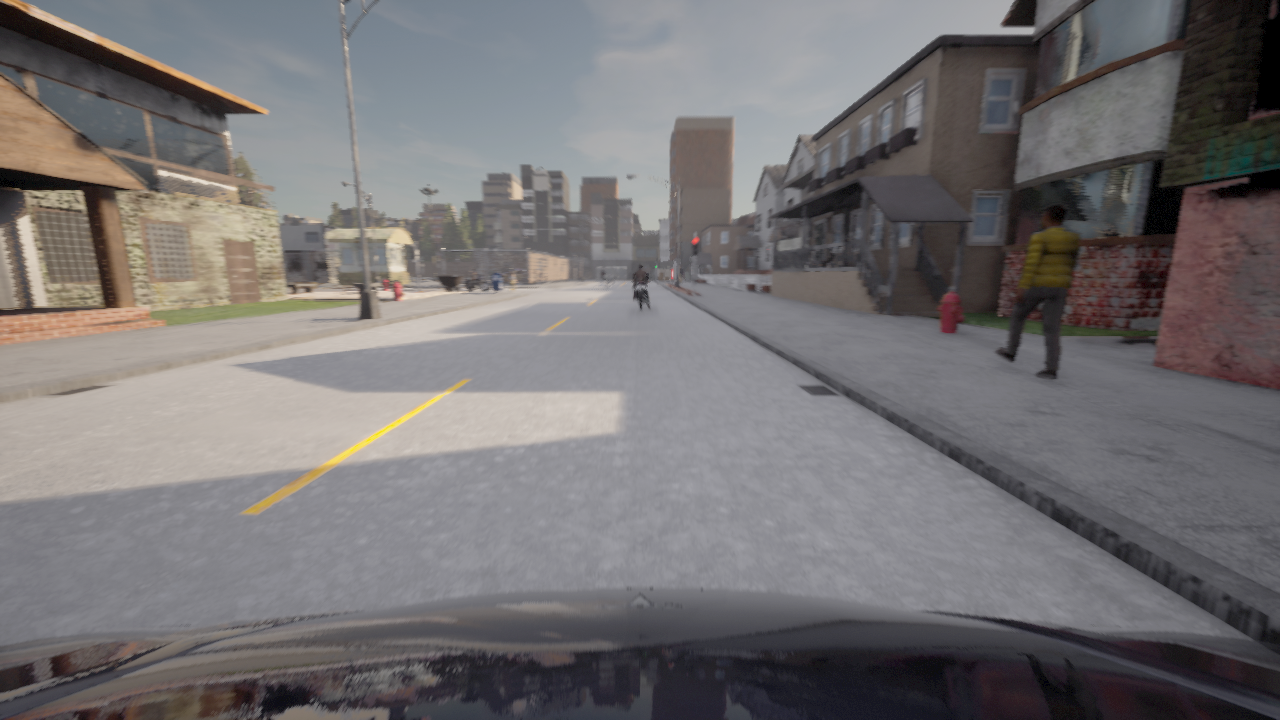cyclist: (0, 588, 1279, 719), (630, 276, 651, 309), (465, 273, 489, 290), (502, 270, 528, 282), (596, 275, 611, 287), (503, 269, 532, 273), (533, 276, 537, 281), (537, 269, 544, 270), (547, 276, 549, 277)
pedestrian: (995, 202, 1079, 379), (509, 272, 515, 293), (679, 264, 683, 285)
